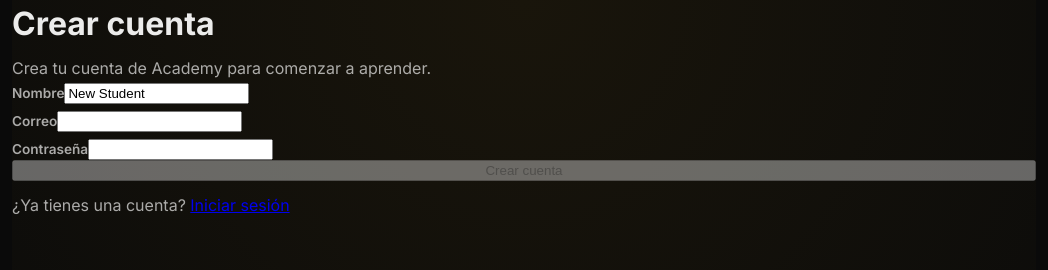
it: SignupForm › shows rate limited message with retry hint
This screenshot has width=1048, height=270.
Type "new@academy.local" into the field labelled "Correo" at (150, 122), box 57,111 -> 242,132
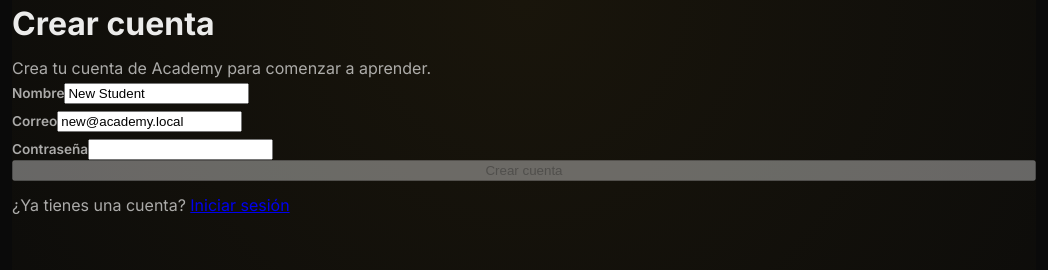
Type "password123" into the password field labelled "Contraseña" at (181, 150), box 88,139 -> 273,160
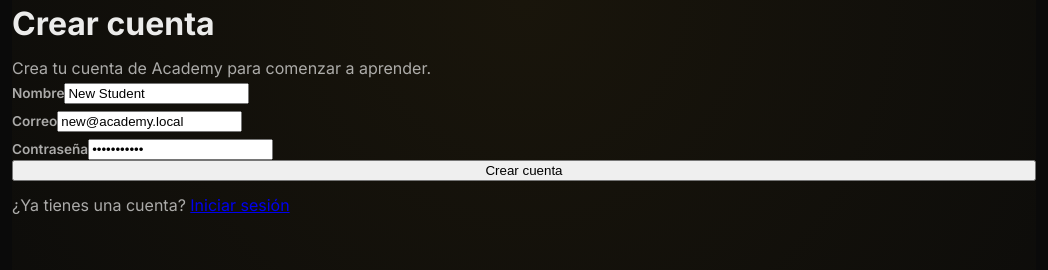
Click the button "Crear cuenta" at (524, 170), box 12,160 -> 1036,181
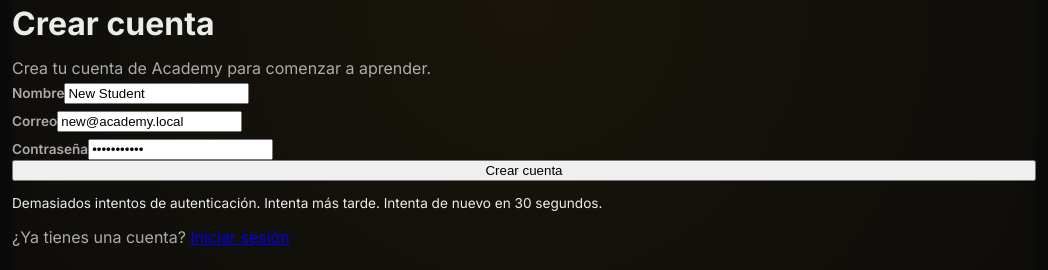
Check: the text "Demasiados intentos de autenticación. Intenta más tarde. Intenta de nuevo en 30 segundos." is shown, box 12,195 -> 602,211
